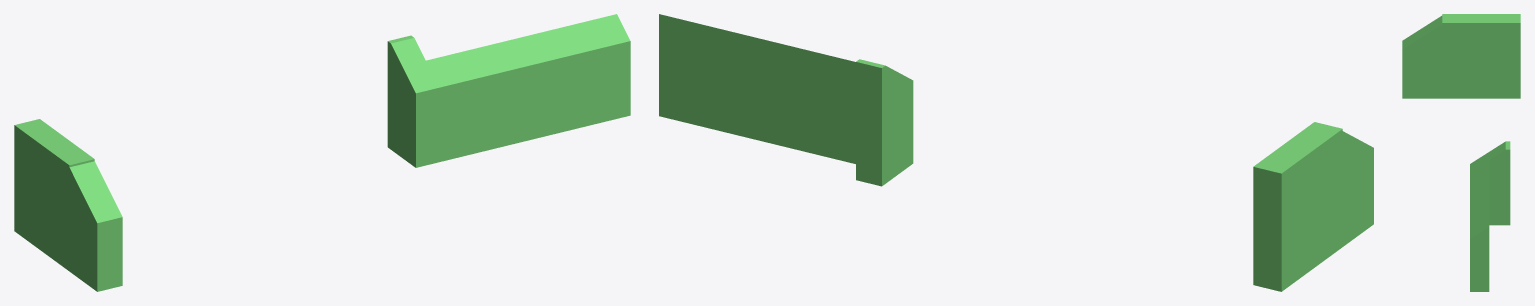
File: RB05__Storey__SecondFloor__ProposedFixtures__MeshModel__.glb
3 renders of one model, left to right at view 1: azimuth 30°, elevation 25°; view 2: azimuth 150°, elevation 25°; view 3: azimuth 270°, elevation 25°, orthographic. The views are drawn at different scales.
Parts seen in each view (by area): view 1: 27__ProposedBuilding__Fixtures::MAT014__ForDiscussion__Green; view 2: 27__ProposedBuilding__Fixtures::MAT014__ForDiscussion__Green; view 3: 27__ProposedBuilding__Fixtures::MAT014__ForDiscussion__Green.
Part boxes in pixels (x1,y1,x2,y2): 27__ProposedBuilding__Fixtures::MAT014__ForDiscussion__Green: [14, 14, 630, 291]; 27__ProposedBuilding__Fixtures::MAT014__ForDiscussion__Green: [659, 14, 1373, 291]; 27__ProposedBuilding__Fixtures::MAT014__ForDiscussion__Green: [1402, 14, 1520, 291].
Size of the model in its own units: 14.88 by 2.6 by 3.68.
